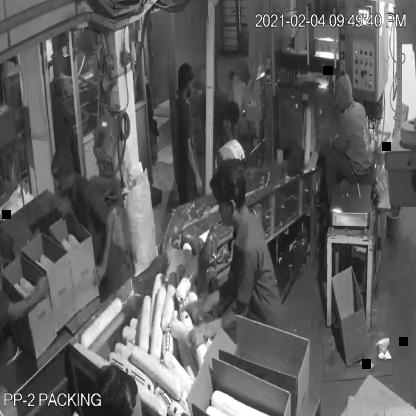glove: (186, 311, 226, 359), (178, 286, 217, 334)
no_glove: (84, 194, 121, 296), (5, 274, 55, 334), (182, 126, 206, 208)
